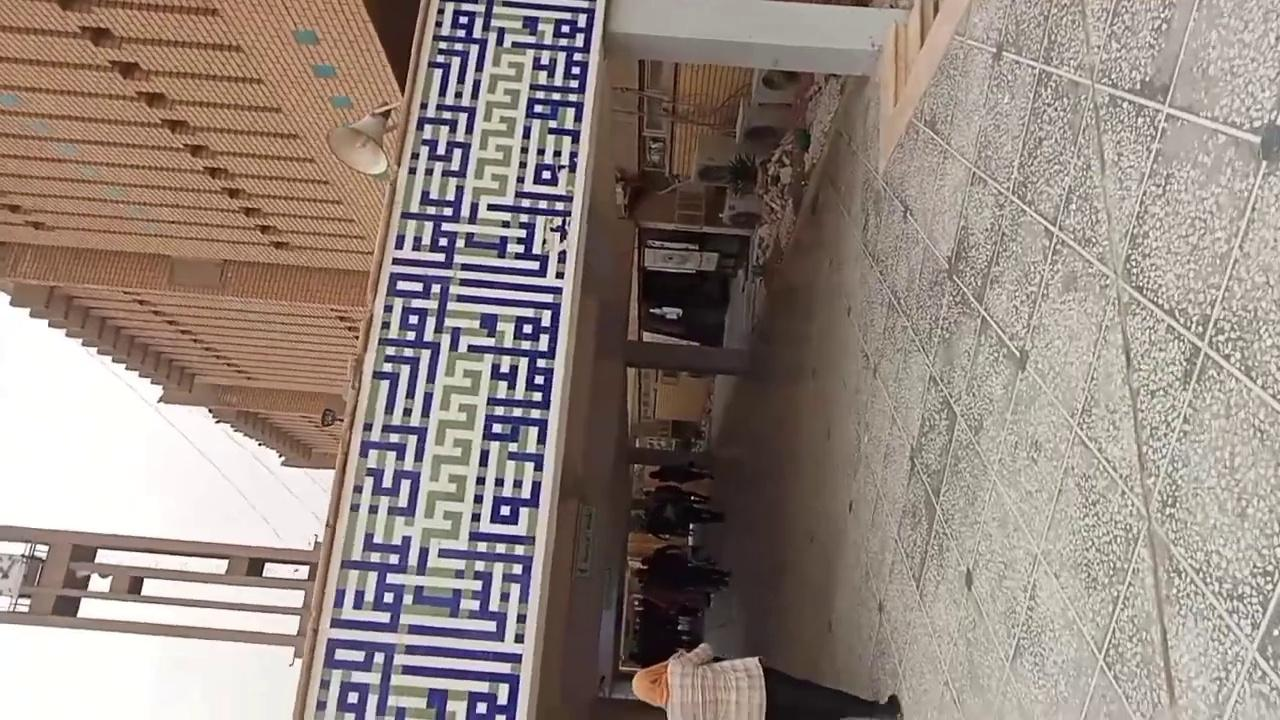person: (630, 642, 903, 719)
